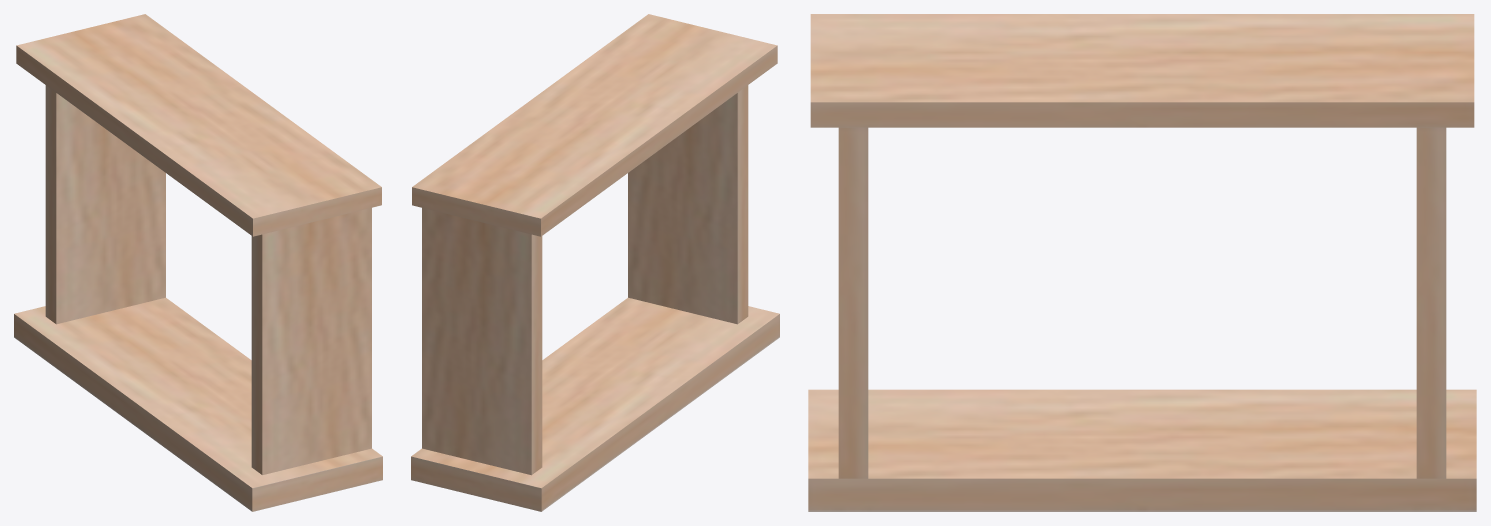
Rendered from polka1.fbx.
3 views of the same model, side by side, from view 1: azimuth 30°, elevation 25°; view 2: azimuth 150°, elevation 25°; view 3: azimuth 270°, elevation 25° (orthographic). The views are drawn at different scales.
Parts seen in each view (by area): view 1: Cube; view 2: Cube; view 3: Cube.
Part boxes in pixels (<box>): Cube: <box>14,14,382,511</box>; Cube: <box>411,14,779,511</box>; Cube: <box>808,14,1476,511</box>.
Bounding box in the file's own units: 36.43 × 77.97 × 115.
